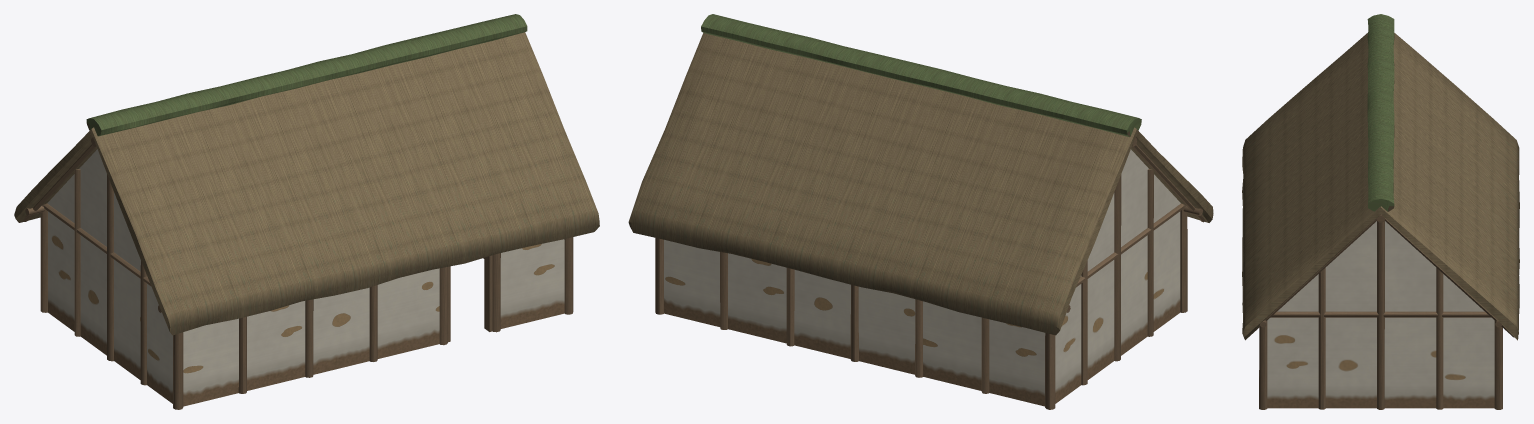
File: house_005_limewash.glb
3 views of the same model, side by side, from view 1: azimuth 30°, elevation 25°; view 2: azimuth 150°, elevation 25°; view 3: azimuth 270°, elevation 25° (orthographic). The views are drawn at different scales.
Visible parts, largest first — view 1: Roof, Wall, Frame, DoorRecess; view 2: Roof, Wall, Frame; view 3: Roof, Wall, Frame.
Part boxes in pixels (x1,y1,x2,y2): Roof: [14, 14, 599, 335]; Wall: [47, 149, 564, 406]; Frame: [23, 137, 573, 409]; DoorRecess: [448, 255, 492, 342]; Roof: [628, 14, 1213, 335]; Wall: [664, 149, 1180, 406]; Frame: [655, 137, 1205, 409]; Roof: [1242, 14, 1519, 340]; Wall: [1267, 221, 1494, 408]; Frame: [1249, 215, 1514, 409].
Size of the model in its own units: 9.4 by 5.09 by 5.9.
3 materials, 3 textured.
